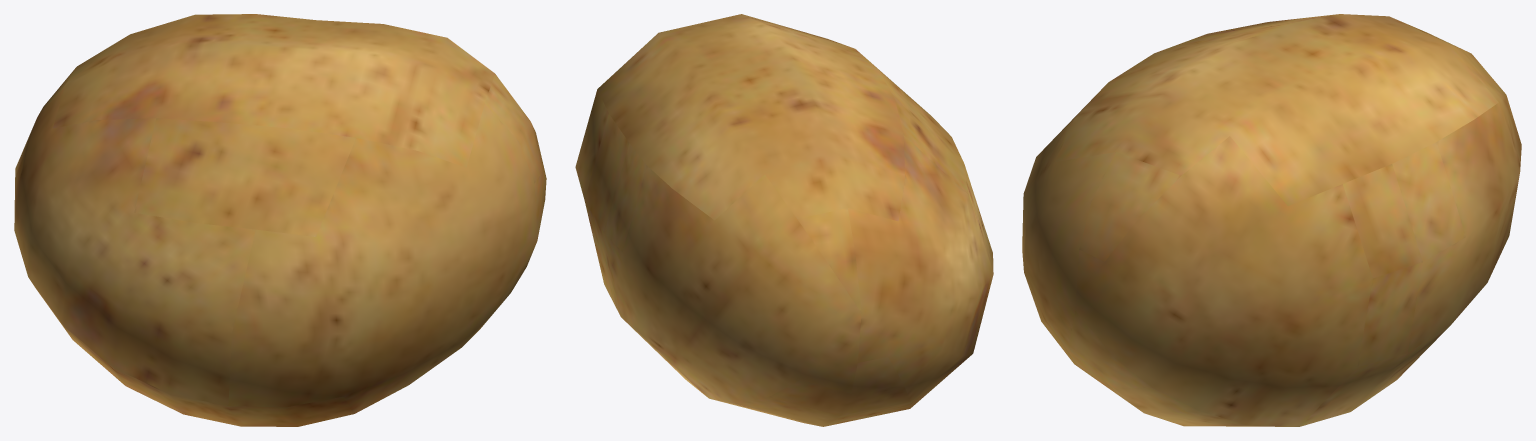
File: SM_配餐室_水果蔬菜_17.fbx
3 views of the same model, side by side, from view 1: azimuth 30°, elevation 25°; view 2: azimuth 150°, elevation 25°; view 3: azimuth 270°, elevation 25° (orthographic). The views are drawn at different scales.
Visible parts, largest first — view 1: SM_配餐室_水果蔬菜_17; view 2: SM_配餐室_水果蔬菜_17; view 3: SM_配餐室_水果蔬菜_17.
Part boxes in pixels (x1=…): SM_配餐室_水果蔬菜_17: x1=14, y1=14, x2=546, y2=426; SM_配餐室_水果蔬菜_17: x1=575, y1=14, x2=993, y2=426; SM_配餐室_水果蔬菜_17: x1=1022, y1=14, x2=1521, y2=426.
Size of the model in its own units: 93.39 by 73.77 by 88.43.
